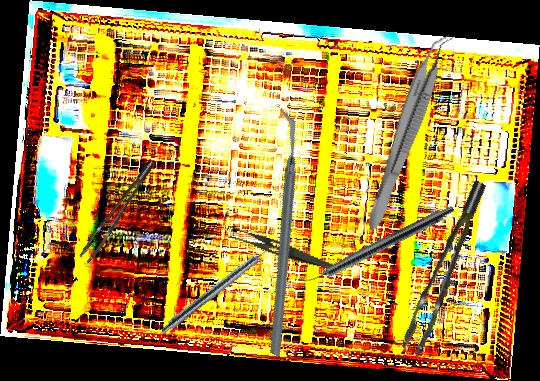Chopper: (176, 107, 385, 359)
Dressing Forceps: (224, 223, 341, 272)
Handpiece: (296, 200, 457, 292), (159, 239, 280, 338)
Tissue Forceps: (385, 179, 509, 357), (363, 27, 455, 237), (70, 159, 168, 264)
